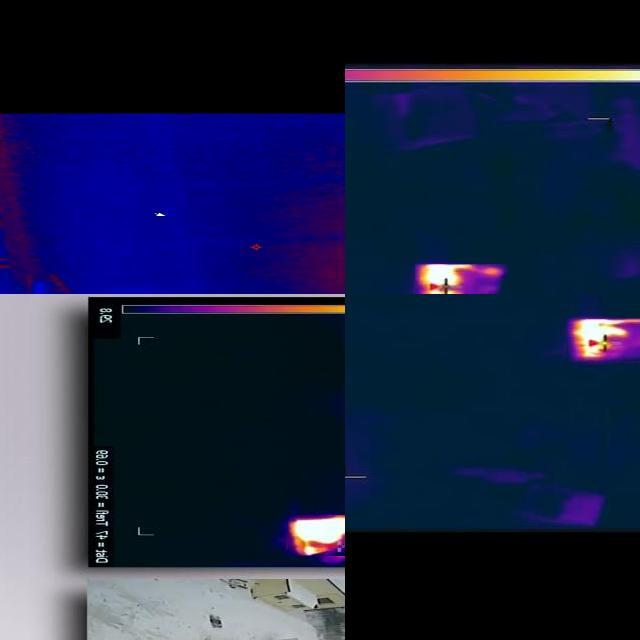fire: (566, 319, 640, 362), (415, 265, 509, 295), (288, 516, 346, 557)
